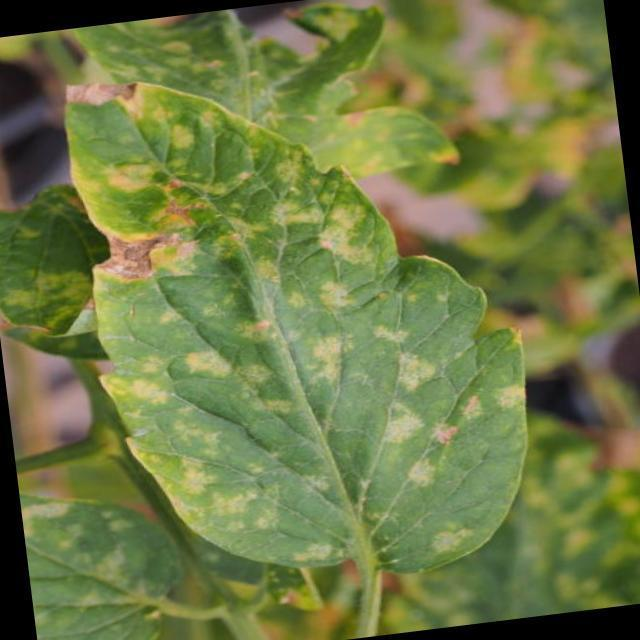Mosaic Virus: (56, 44, 546, 606), (19, 475, 188, 640)
